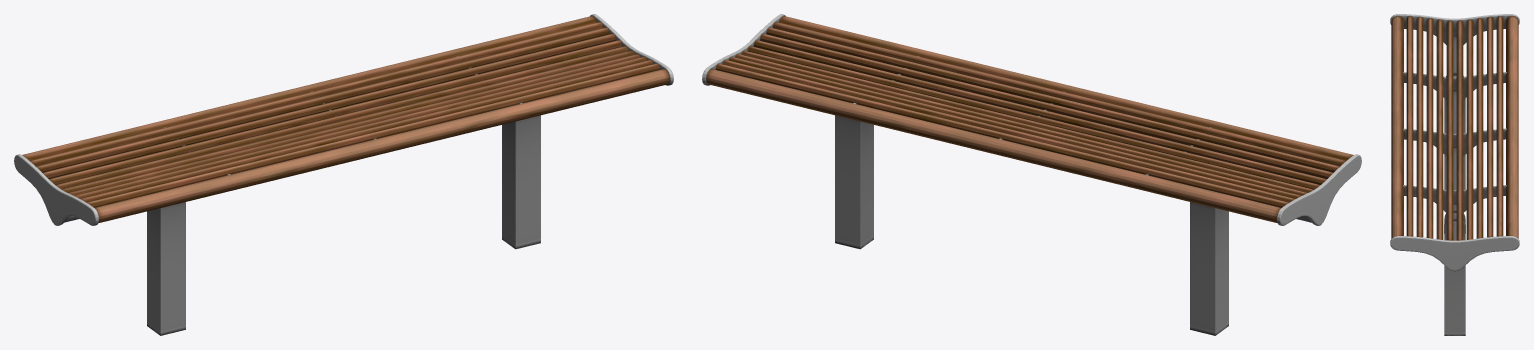
File: Park Bench.fbx
3 views of the same model, side by side, from view 1: azimuth 30°, elevation 25°; view 2: azimuth 150°, elevation 25°; view 3: azimuth 270°, elevation 25° (orthographic). The views are drawn at different scales.
Bounding box in the file's own units: 0.3488 × 0.0997 × 0.0855.
